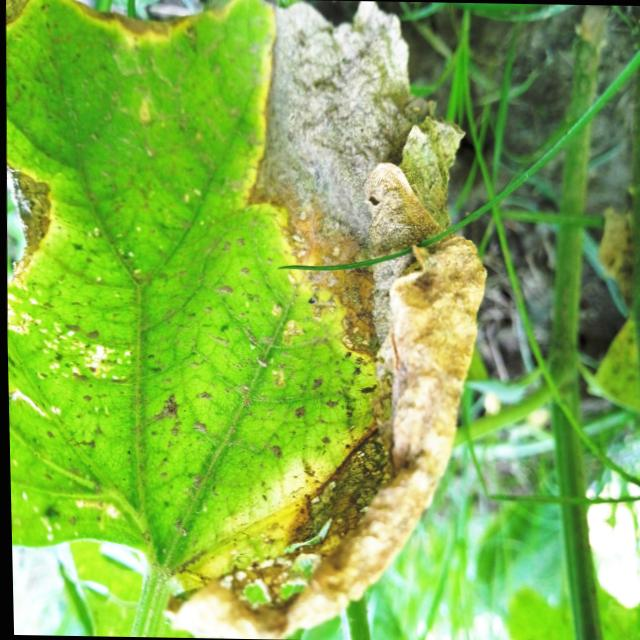Gummy-Stem-Blight: (161, 0, 490, 639)
